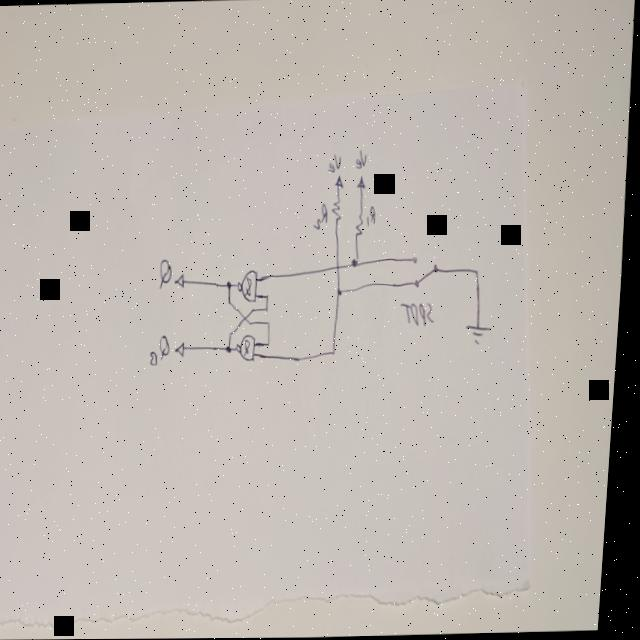crossover: (338, 260, 346, 272), (246, 314, 252, 322)
ground: (468, 321, 498, 347)
junction: (354, 254, 364, 268), (476, 267, 484, 279), (230, 342, 237, 354), (340, 285, 347, 297), (230, 279, 236, 291), (335, 347, 342, 357), (271, 339, 276, 347), (269, 291, 274, 299), (269, 305, 274, 313), (231, 297, 236, 305), (255, 306, 260, 313), (271, 318, 275, 326), (233, 330, 237, 336), (253, 320, 257, 326)
resistor: (333, 194, 346, 224), (357, 210, 369, 240)
source: (358, 175, 369, 191), (337, 173, 347, 188)
switch: (413, 256, 444, 290)
terminal: (178, 270, 189, 291), (179, 339, 191, 358)
text: (403, 298, 441, 330), (153, 331, 176, 367), (161, 256, 178, 288), (315, 202, 332, 230), (330, 152, 345, 173), (356, 148, 370, 170), (368, 205, 379, 228)
